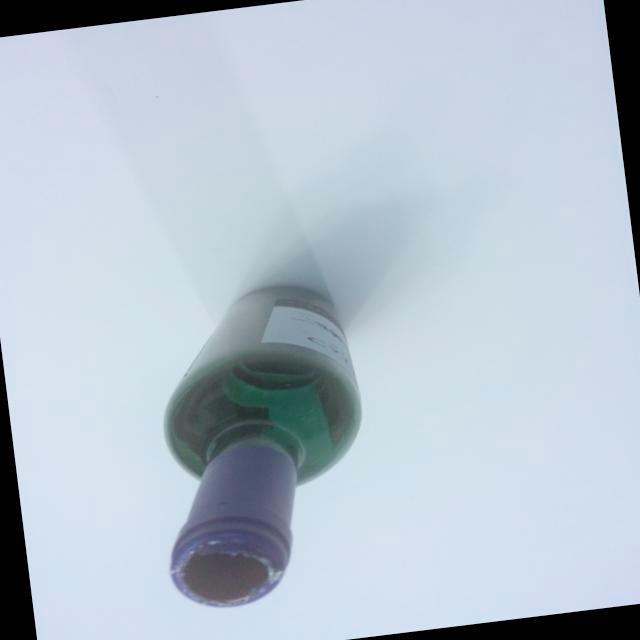glass: (125, 264, 394, 618)
